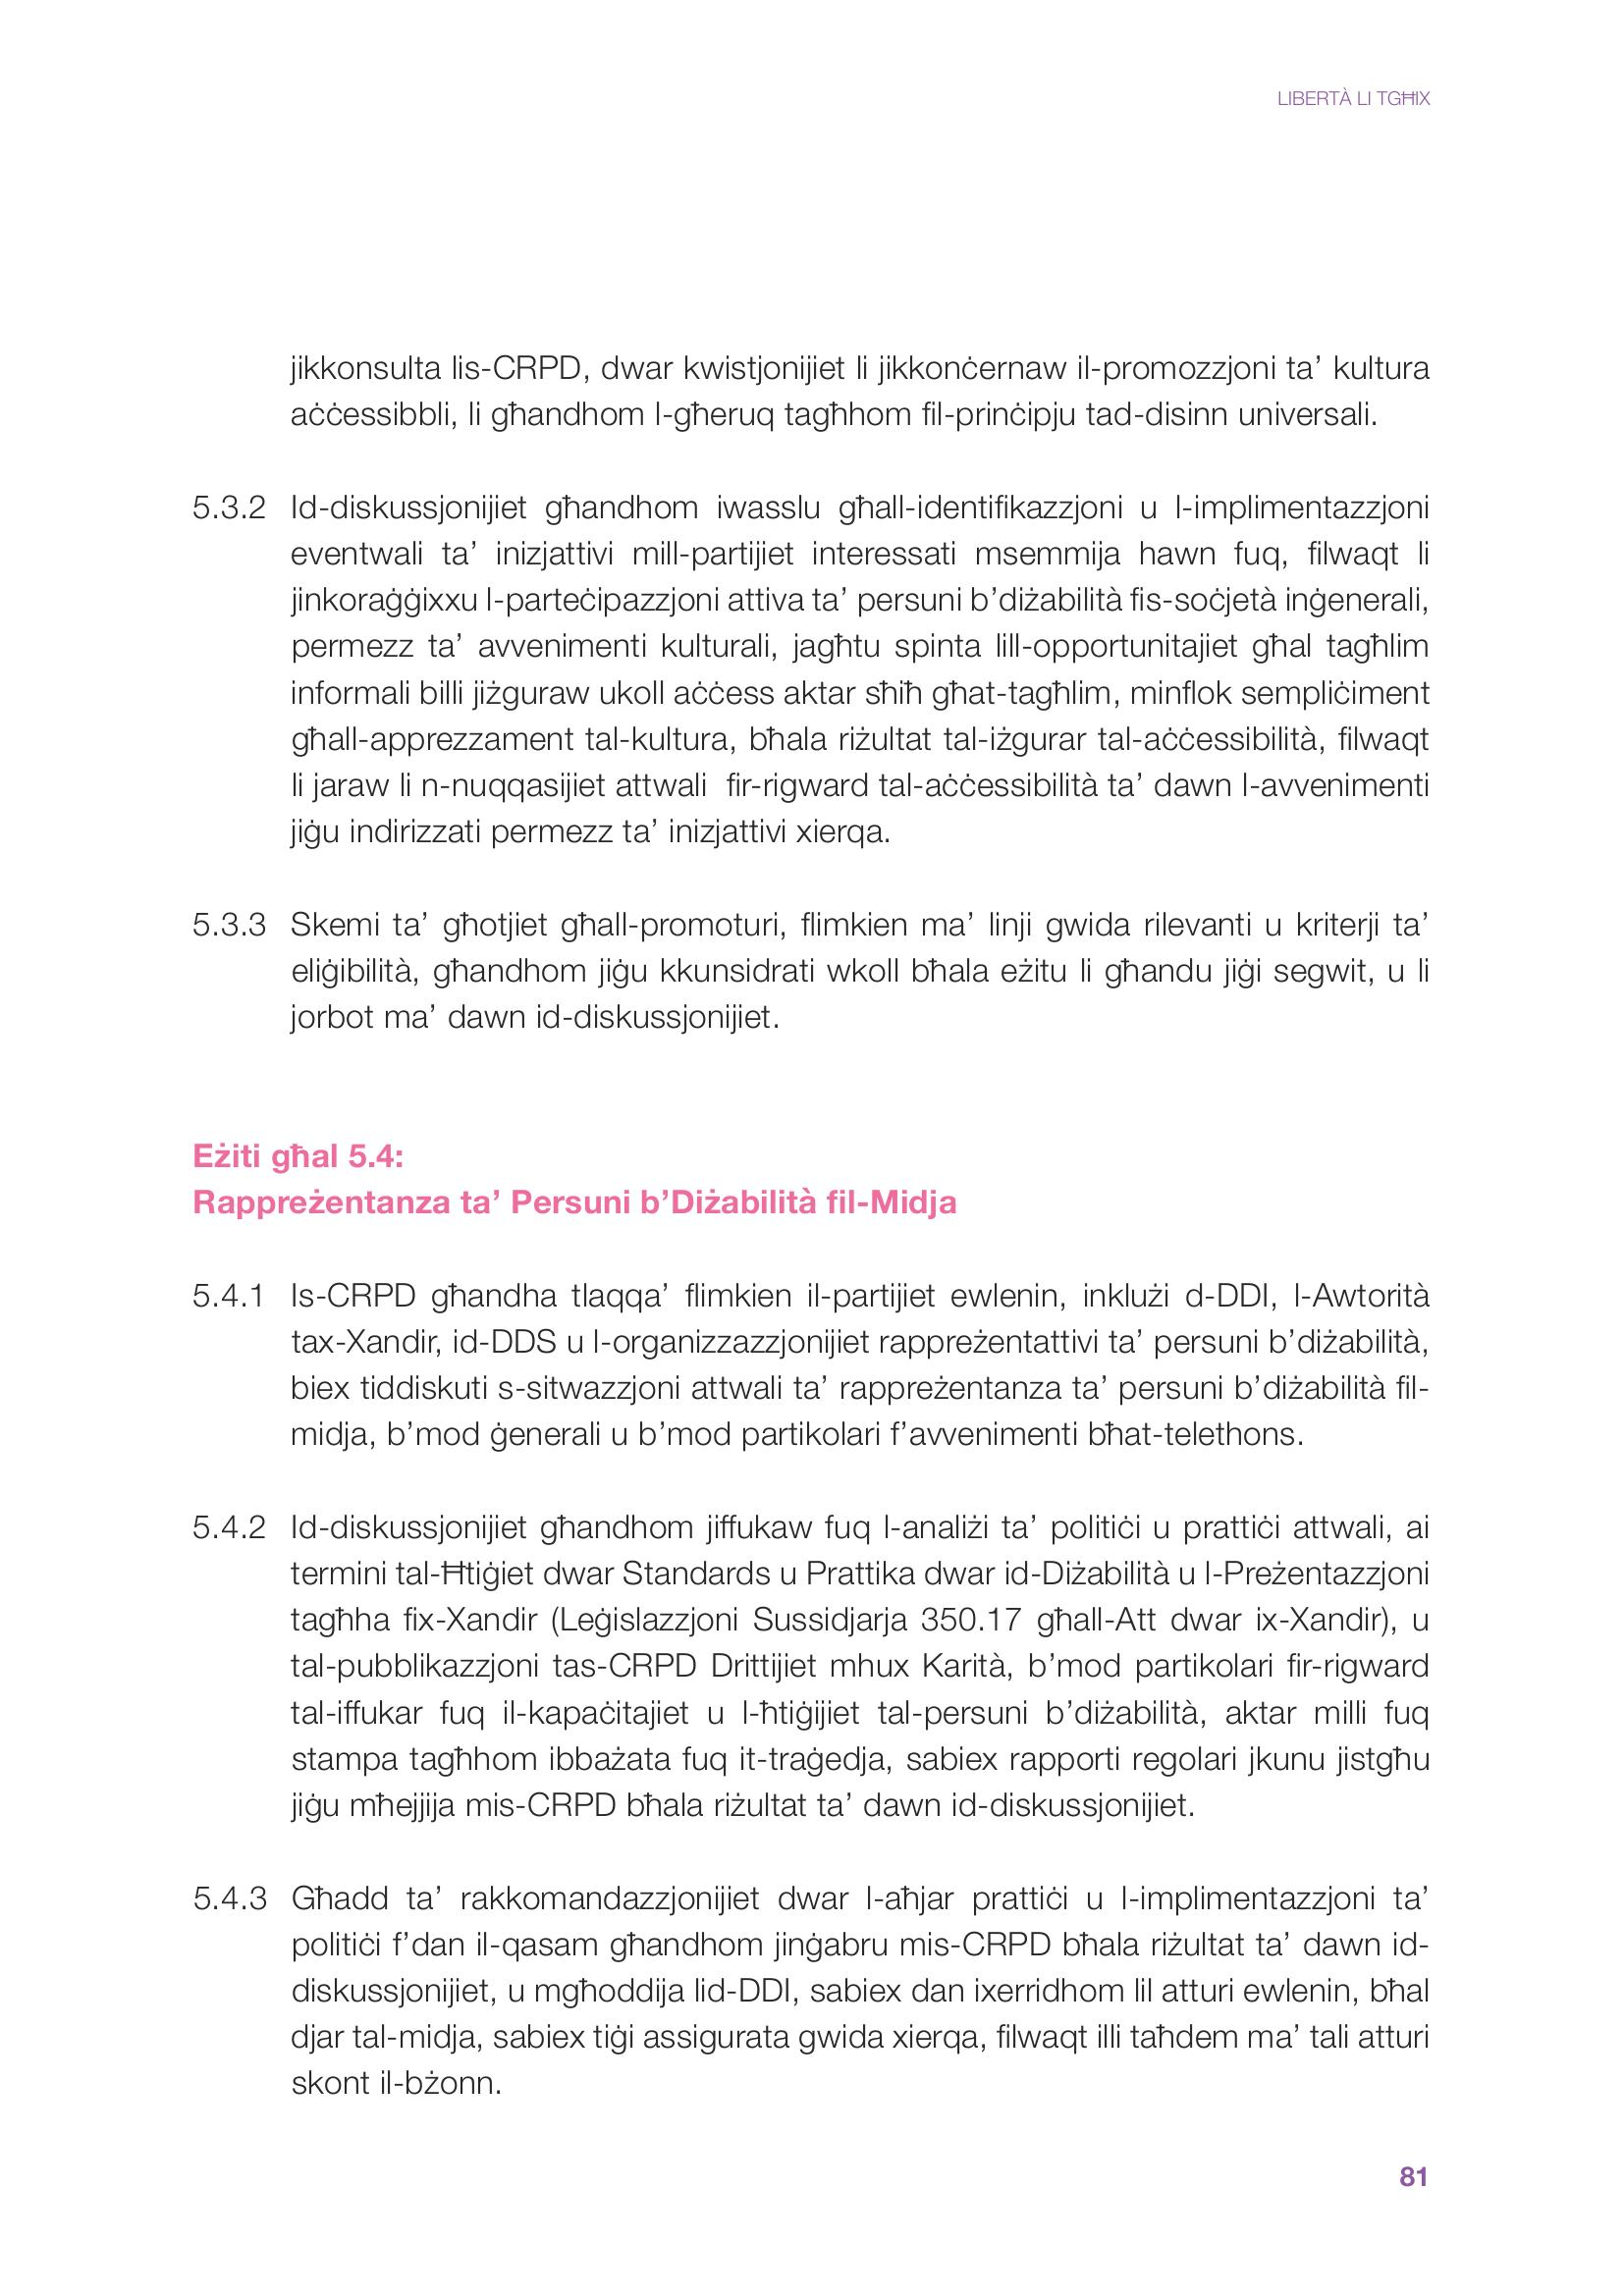text: (163, 336, 1441, 2106)
